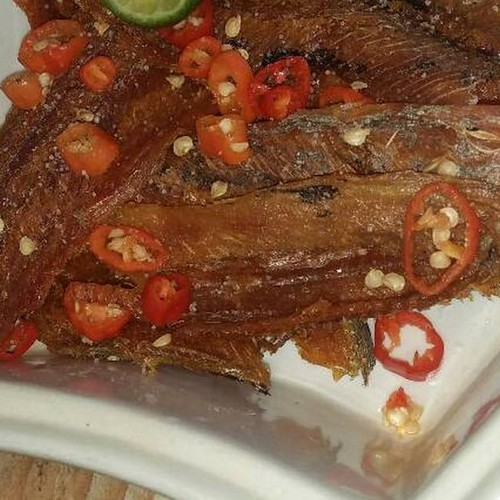sudang lepet: (23, 28, 487, 332)
